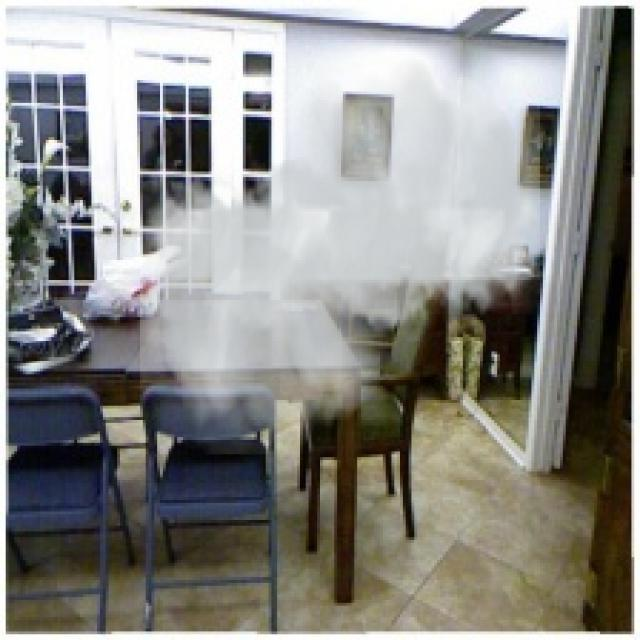Smoke: (140, 34, 540, 454)
